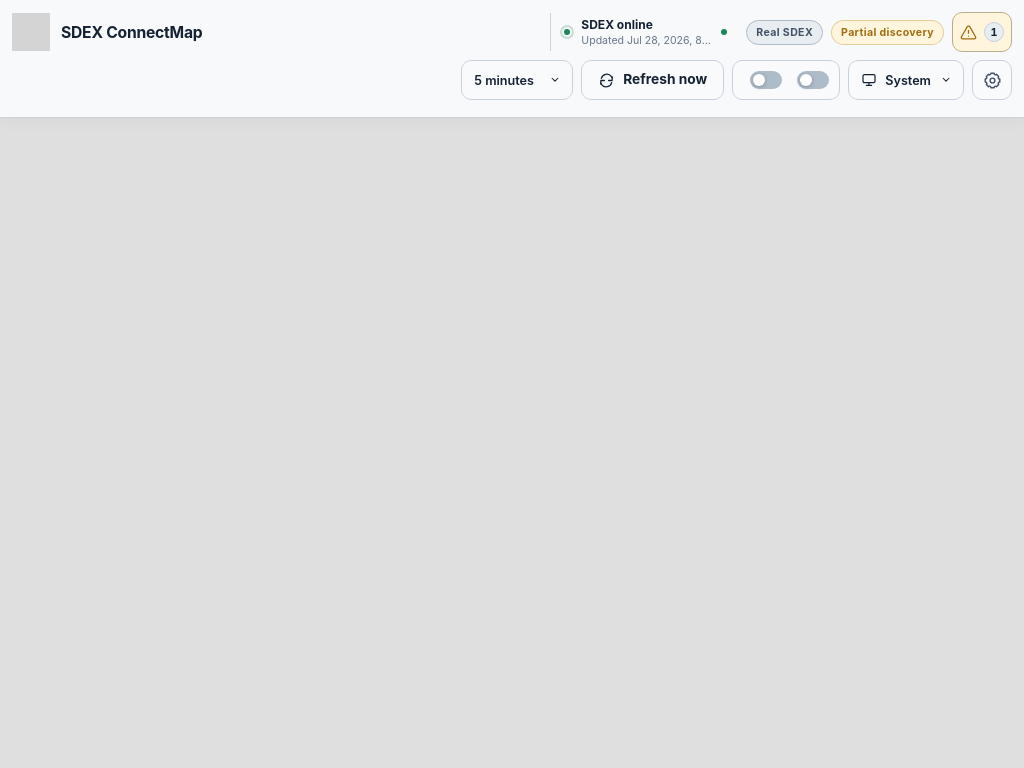
Scenario: top bar controls › preserves partial-discovery warnings and alarms (Mock Mode: false)
Expected: the text "Partial discovery" is shown, [831,20,944,44]
Click the button named "Alarms, 1 active": coordinates (982, 32) [952,12,1012,52]
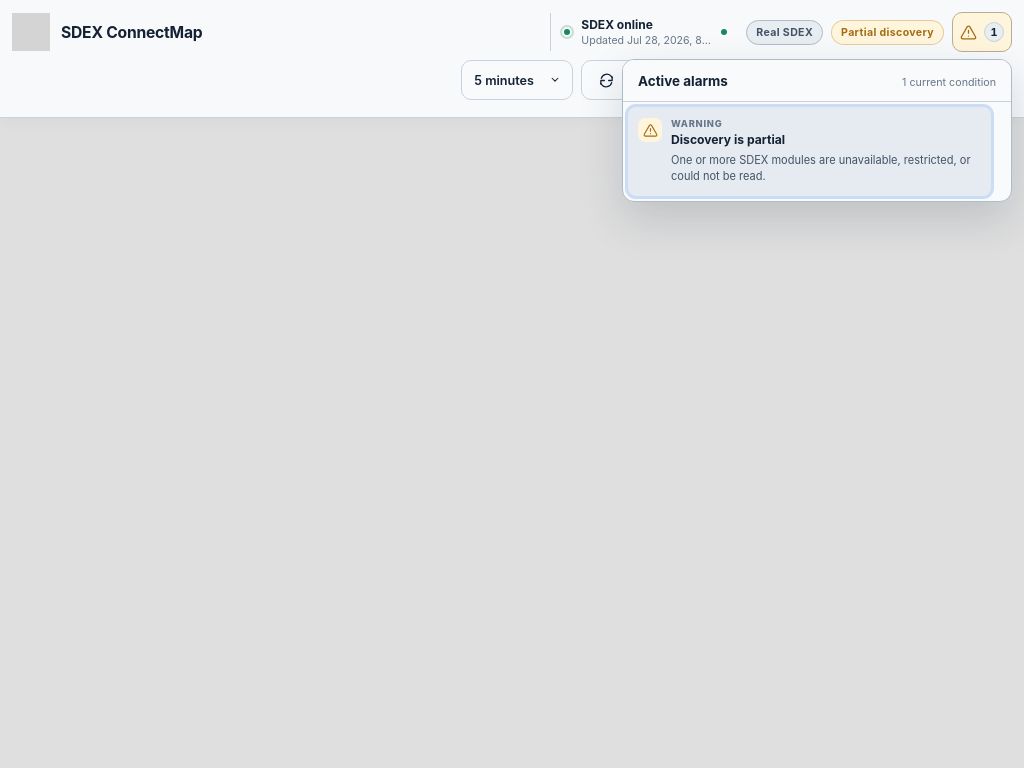
Now the text "Discovery is partial" is shown, box [671,132,785,148]
